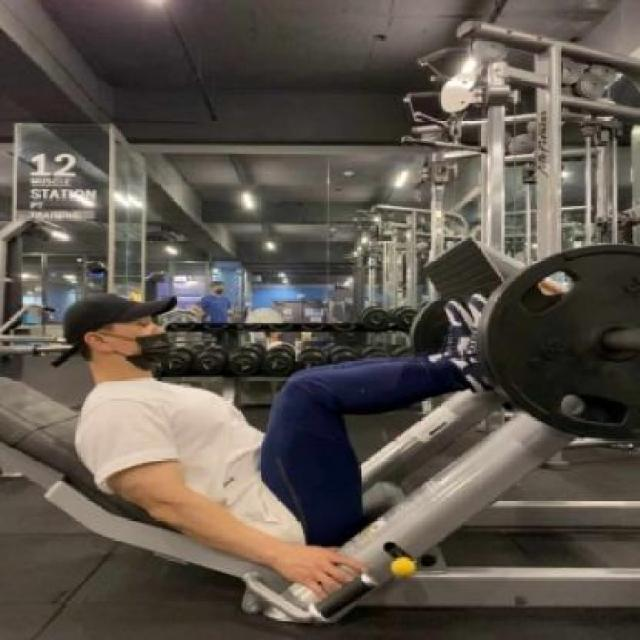leg press: (1, 161, 640, 636)
